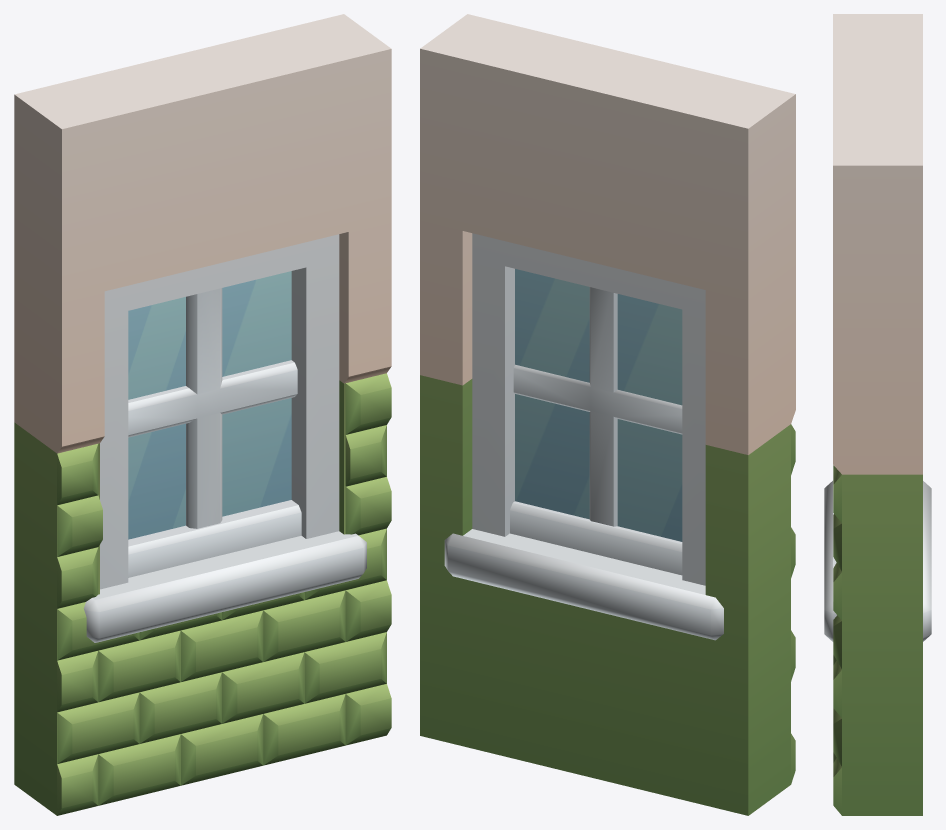
File: Wall Tiles Kitchen W.glb
3 renders of one model, left to right at view 1: azimuth 30°, elevation 25°; view 2: azimuth 150°, elevation 25°; view 3: azimuth 270°, elevation 25°, orthographic. The views are drawn at different scales.
Visible parts, largest first — view 1: wall_tiles_kitchen_window; view 2: wall_tiles_kitchen_window; view 3: wall_tiles_kitchen_window.
Boxes of the visible parts, box(x1,y1,x2,y2) form: wall_tiles_kitchen_window: box(14, 14, 391, 815); wall_tiles_kitchen_window: box(420, 14, 795, 815); wall_tiles_kitchen_window: box(824, 14, 931, 815).
Size of the model in its own units: 2 by 4 by 0.6.
2 materials, 2 textured.
